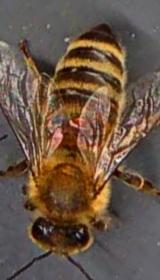varroa_mite: (64, 111, 94, 136)
